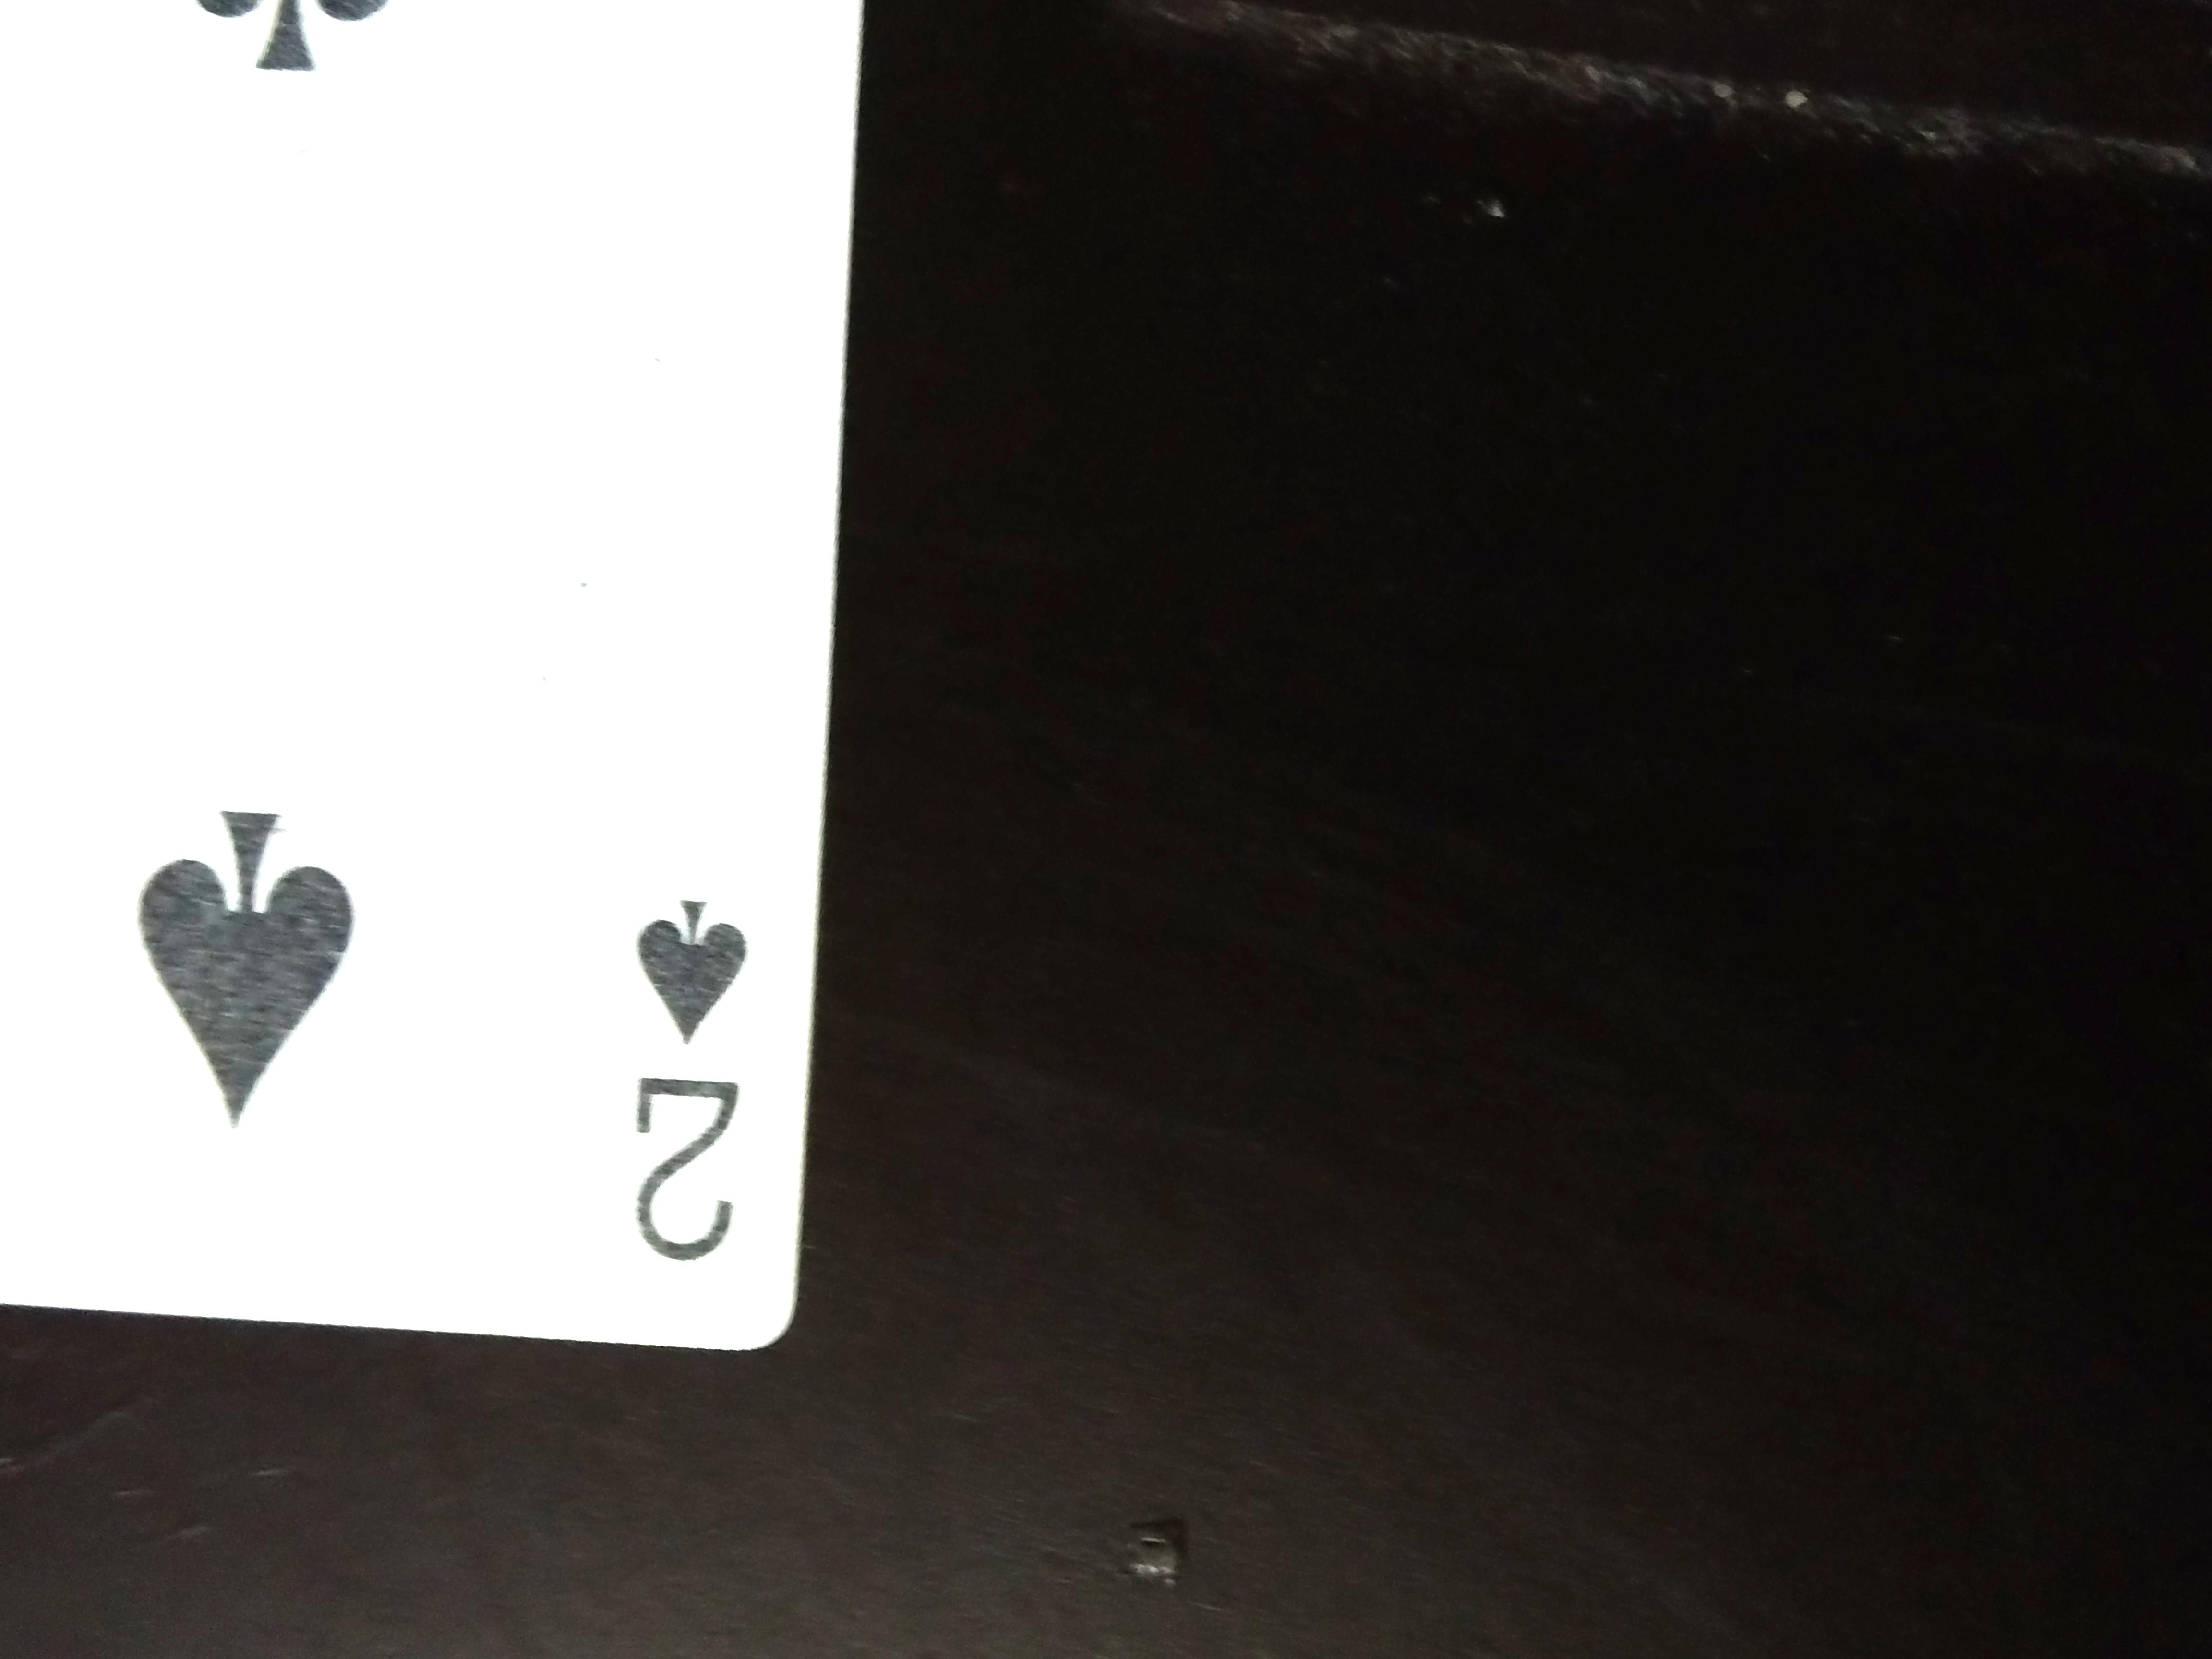2S: (573, 847, 789, 1291)
